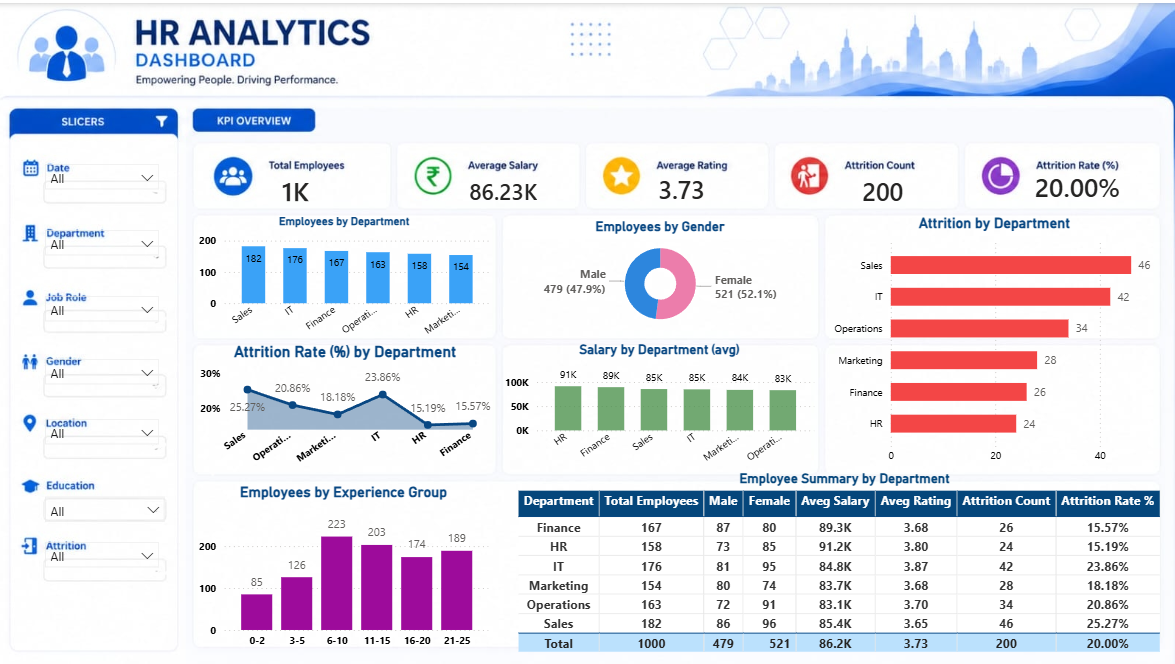

The dashboard page shown, as its layout file describes it:
{"tool":"powerbi","page":{"name":"Page 1","canvas":[1280,720],"ordinal":0},"visuals":[{"type":"cardVisual","fields":{"Data":["CountNonNull(HR_Data.Employee_ID)"]},"box":[279.8,174,107.4,58.6],"z":0},{"type":"cardVisual","fields":{"Data":["Avg(HR_Data.Monthly_Salary)"]},"box":[483.1,144.8,234.2,117.1],"z":1000},{"type":"cardVisual","fields":{"Data":["Avg(HR_Data.Performance_Rating)"]},"box":[688,159.4,136.6,83],"z":2000},{"type":"cardVisual","fields":{"Data":["Dashboard_Summary.Attrition Count"]},"box":[909.2,169.2,128.5,68.3],"z":3000},{"type":"cardVisual","fields":{"Data":["Dashboard_Summary.Attrition Rate %"]},"box":[1096.3,162.7,172.4,71.6],"z":4000},{"type":"slicer","fields":{"Values":["HR_Data.Education"]},"box":[42.3,525.4,149.6,58.6],"z":5000},{"type":"slicer","fields":{"Values":["HR_Data.Department"]},"box":[42.3,234.2,143.1,60.2],"z":6000},{"type":"slicer","fields":{"Values":["HR_Data.Joining_Date"]},"box":[42.3,162.7,143.1,58.6],"z":7000},{"type":"slicer","fields":{"Values":["HR_Data.Gender"]},"box":[42.3,374.1,143.1,58.6],"z":8000},{"type":"slicer","fields":{"Values":["HR_Data.Job_Role"]},"box":[42.3,305.8,143.1,53.7],"z":9000},{"type":"slicer","fields":{"Values":["HR_Data.Location"]},"box":[42.3,439.2,143.1,60.2],"z":10000},{"type":"slicer","fields":{"Values":["HR_Data.Attrition"]},"box":[42.3,572.5,143.1,58.6],"z":11000},{"type":"columnChart","title":"Employees by Department","fields":{"Category":["HR_Data.Department"],"Y":["CountNonNull(HR_Data.Employee_ID)"]},"box":[213.1,229.3,326.9,139.9],"z":12000},{"type":"donutChart","title":"Employees by Gender","fields":{"Y":["CountNonNull(HR_Data.Employee_ID)"],"Category":["HR_Data.Gender"]},"box":[551.4,234.2,335.1,123.6],"z":13000},{"type":"barChart","title":"Attrition by Department","fields":{"Category":["HR_Data.Department"],"Y":["Dashboard_Summary.Attrition Count"]},"box":[897.9,229.3,367.6,278.1],"z":14000},{"type":"columnChart","title":"Salary by Department (avg)","fields":{"Category":["HR_Data.Department"],"Y":["Avg(HR_Data.Monthly_Salary)"]},"box":[544.9,367.6,346.5,141.5],"z":15000},{"type":"columnChart","title":"Employees by Experience Group","fields":{"Y":["Dashboard_Summary.Total Emp"],"Category":["HR_Data.Experience Group"]},"box":[213.1,520.5,325.3,187.1],"z":16000},{"type":"lineChart","title":"Attrition Rate (%) by Department","fields":{"Category":["HR_Data.Department"],"Y":["Dashboard_Summary.Attrition Rate %"]},"box":[214.3,368.1,325.6,140.7],"z":17000},{"type":"tableEx","title":"Employee Summary by Department","fields":{"Values":["HR_Data.Department","HR_Data.Employee_ID","HR_Data.Male Count","HR_Data.Female Count","Avg(HR_Data.Monthly_Salary)","Avg(HR_Data.Performance_Rating)","Dashboard_Summary.Attrition Count","Dashboard_Summary.Attrition Rate %"]},"box":[560.3,507.9,719.2,211.3],"z":18000}]}

Visuals, with their boxes in screenshot pixels (x1, y1, x2, y2), scaled from the page's 1280x720 canvas onto the 1175x664 screenshot:
cardVisual - CountNonNull(HR_Data.Employee_ID): 257/160/355/215
cardVisual - Avg(HR_Data.Monthly_Salary): 443/134/658/242
cardVisual - Avg(HR_Data.Performance_Rating): 632/147/757/224
cardVisual - Dashboard_Summary.Attrition Count: 835/156/953/219
cardVisual - Dashboard_Summary.Attrition Rate %: 1006/150/1165/216
slicer - HR_Data.Education: 39/485/176/539
slicer - HR_Data.Department: 39/216/170/272
slicer - HR_Data.Joining_Date: 39/150/170/204
slicer - HR_Data.Gender: 39/345/170/399
slicer - HR_Data.Job_Role: 39/282/170/332
slicer - HR_Data.Location: 39/405/170/461
slicer - HR_Data.Attrition: 39/528/170/582
"Employees by Department" columnChart: 196/211/496/340
"Employees by Gender" donutChart: 506/216/814/330
"Attrition by Department" barChart: 824/211/1162/468
"Salary by Department (avg)" columnChart: 500/339/818/470
"Employees by Experience Group" columnChart: 196/480/494/653
"Attrition Rate (%) by Department" lineChart: 197/339/496/469
"Employee Summary by Department" tableEx: 514/468/1174/663
